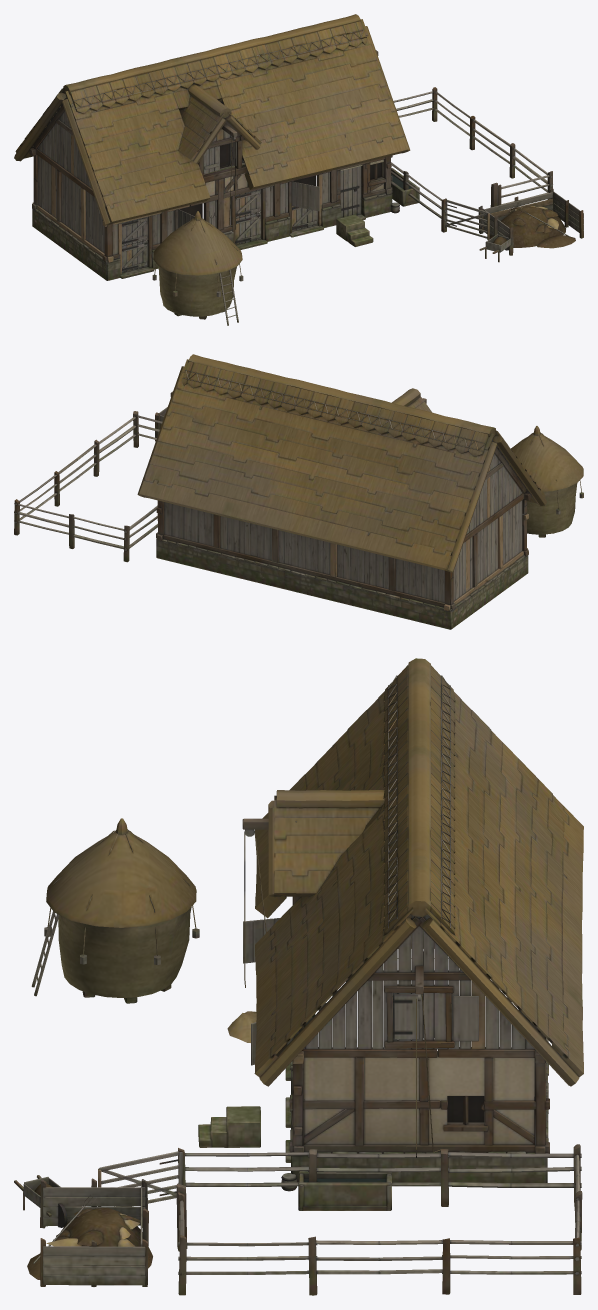
The model's file is stables.glb.
3 views of the same model, one above another, from view 1: azimuth 30°, elevation 25°; view 2: azimuth 150°, elevation 25°; view 3: azimuth 270°, elevation 25° (orthographic). The views are drawn at different scales.
Visible parts, largest first — view 1: stables_LOD0; view 2: stables_LOD0; view 3: stables_LOD0.
Boxes of the visible parts, box(x1,y1,x2,y2) form: stables_LOD0: box(14, 14, 583, 325); stables_LOD0: box(14, 354, 583, 629); stables_LOD0: box(14, 658, 583, 1295).
Size of what is drawn, in the model's own units: 17.98 by 6.89 by 12.27.
1 material, 1 textured.
